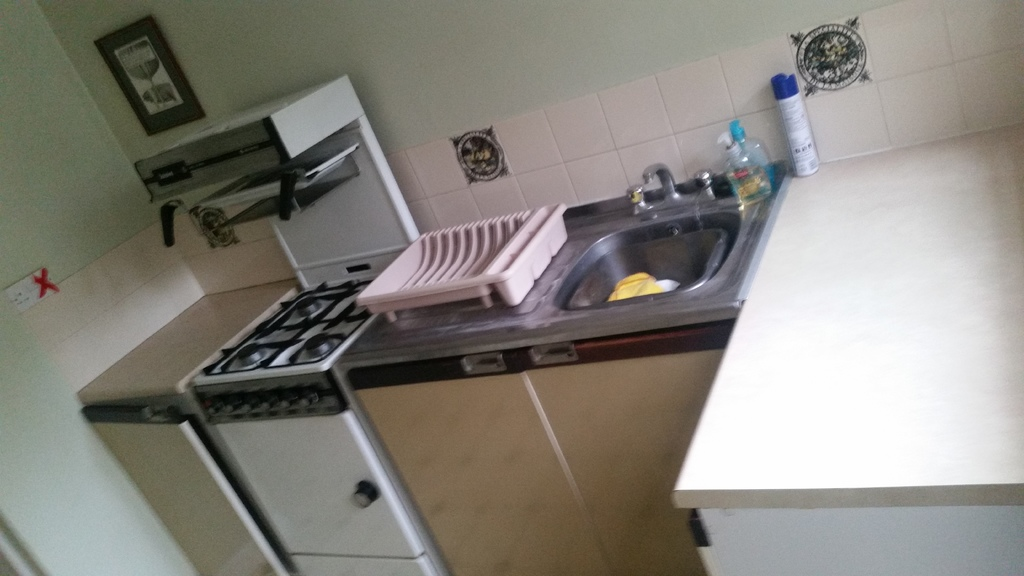tap: (642, 160, 677, 200)
